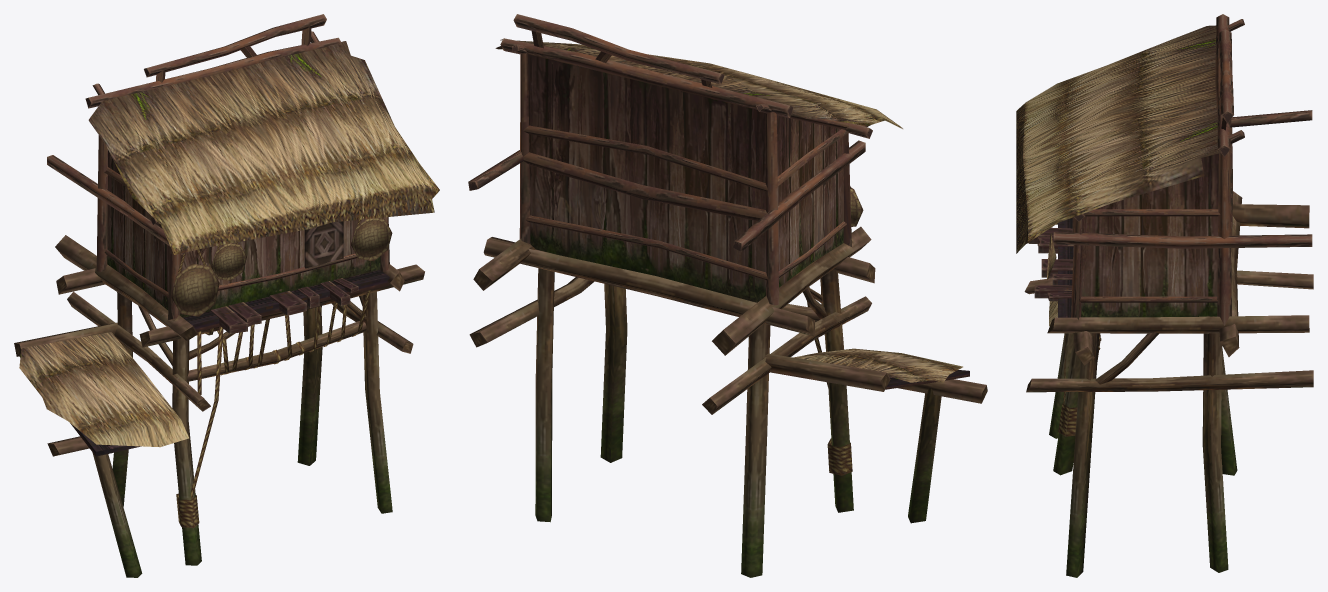
Rendered from Maincity03_Building_06_LOD0.FBX.
3 views of the same model, side by side, from view 1: azimuth 30°, elevation 25°; view 2: azimuth 150°, elevation 25°; view 3: azimuth 270°, elevation 25° (orthographic). The views are drawn at different scales.
Visible parts, largest first — view 1: QYZ_CMC_A_06_LOD0; view 2: QYZ_CMC_A_06_LOD0; view 3: QYZ_CMC_A_06_LOD0.
Boxes of the visible parts, <box> form: QYZ_CMC_A_06_LOD0: <box>14,14,439,577</box>; QYZ_CMC_A_06_LOD0: <box>468,14,987,577</box>; QYZ_CMC_A_06_LOD0: <box>1016,14,1313,577</box>.
Size of the model in its own units: 1015 by 1142 by 658.
